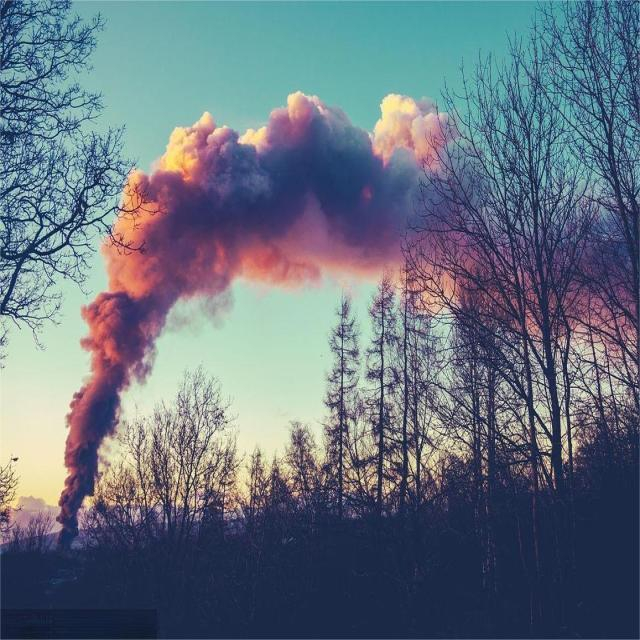Smoke: (107, 88, 444, 300), (54, 299, 152, 543)
